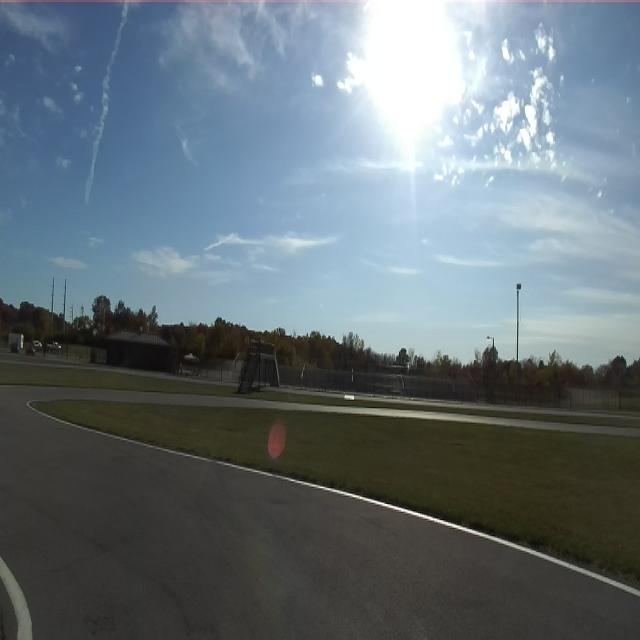white-line: (26, 401, 640, 596), (0, 556, 32, 639)
